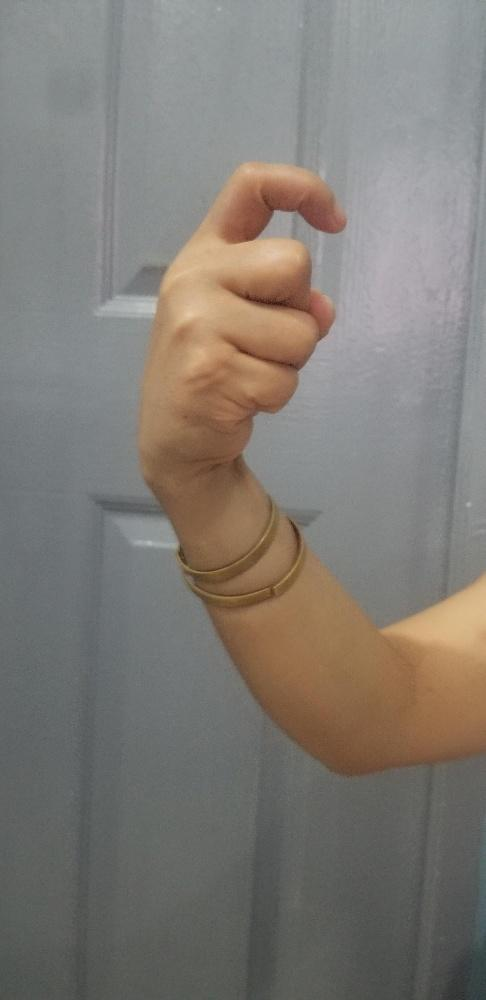x: (133, 159, 348, 482)
